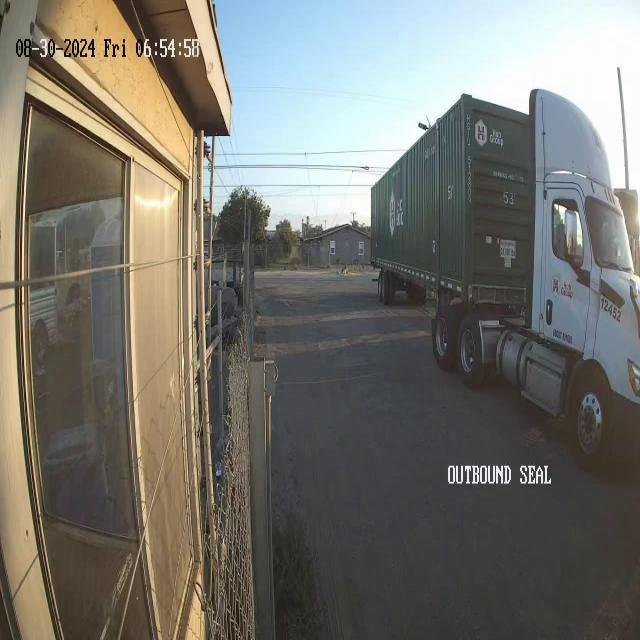TRUCK_IN: (369, 85, 639, 471)
